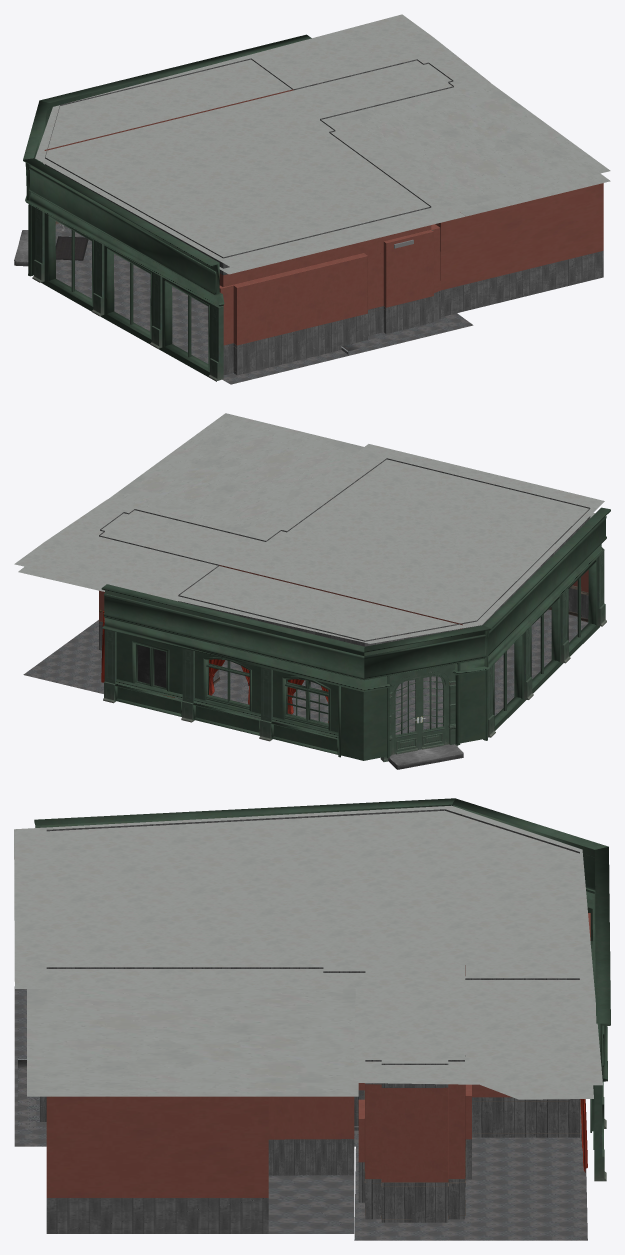
The picture shows the model from 3 angles, top to bottom: view 1: azimuth 30°, elevation 25°; view 2: azimuth 150°, elevation 25°; view 3: azimuth 270°, elevation 25°; orthographic projection. The views are drawn at different scales.
Parts seen in each view (by area): view 1: Bistro_Research_Interior_paris_building_01_interior_2140, Bistro_Research_Interior_paris_building_01_interior_2128 (×4), Bistro_Research_Exterior_Paris_Building_01_paris_building_01 (×7), Bistro_Research_Interior_paris_building_01_interior_2124 (×3), Bistro_Research_Interior_paris_building_01_interior_2144, Bistro_Research_Interior_Doormat_01_1520; view 2: Bistro_Research_Interior_paris_building_01_interior_2140, Bistro_Research_Exterior_Paris_Building_01_paris_building_01 (×27), Bistro_Research_Interior_paris_building_01_interior_2124 (×2), Bistro_Research_Interior_paris_building_01_interior_2144, Bistro_Research_Interior_paris_building_01_interior_2128; view 3: Bistro_Research_Interior_paris_building_01_interior_2140, Bistro_Research_Interior_paris_building_01_interior_2128 (×6), Bistro_Research_Interior_paris_building_01_interior_2124 (×3), Bistro_Research_Interior_paris_building_01_interior_2144 (×2), Bistro_Research_Exterior_Paris_Building_01_paris_building_01 (×3).
Boxes of the visible parts, x1,y1,x2,y2 form: Bistro_Research_Interior_paris_building_01_interior_2140: (35, 14, 490, 267); Bistro_Research_Interior_paris_building_01_interior_2128 (×4): (45, 58, 603, 375); Bistro_Research_Exterior_Paris_Building_01_paris_building_01 (×7): (23, 34, 311, 381); Bistro_Research_Interior_paris_building_01_interior_2124 (×3): (43, 82, 610, 274); Bistro_Research_Interior_paris_building_01_interior_2144: (55, 223, 473, 384); Bistro_Research_Interior_Doormat_01_1520: (55, 236, 88, 260); Bistro_Research_Interior_paris_building_01_interior_2140: (14, 444, 604, 643); Bistro_Research_Exterior_Paris_Building_01_paris_building_01 (×27): (101, 507, 610, 769); Bistro_Research_Interior_paris_building_01_interior_2124 (×2): (18, 413, 594, 601); Bistro_Research_Interior_paris_building_01_interior_2144: (23, 609, 588, 734); Bistro_Research_Interior_paris_building_01_interior_2128: (99, 458, 590, 726); Bistro_Research_Interior_paris_building_01_interior_2140: (14, 805, 602, 1085); Bistro_Research_Interior_paris_building_01_interior_2128 (×6): (40, 809, 590, 1233); Bistro_Research_Interior_paris_building_01_interior_2124 (×3): (27, 989, 593, 1099); Bistro_Research_Interior_paris_building_01_interior_2144 (×2): (14, 986, 587, 1240); Bistro_Research_Exterior_Paris_Building_01_paris_building_01 (×3): (34, 798, 610, 1181).
Size of the model in its own units: 13.97 by 3.76 by 12.26.
Materials: 50 (46 with a texture image).
